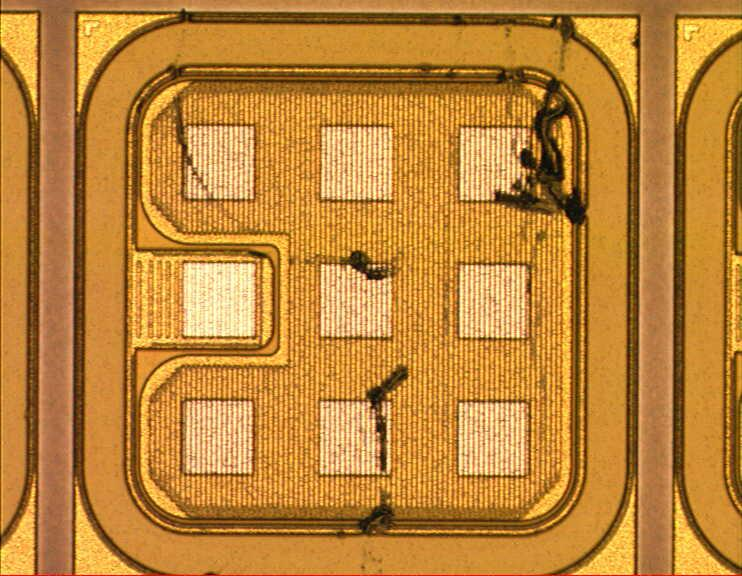SCRATCH: (162, 1, 593, 555)
